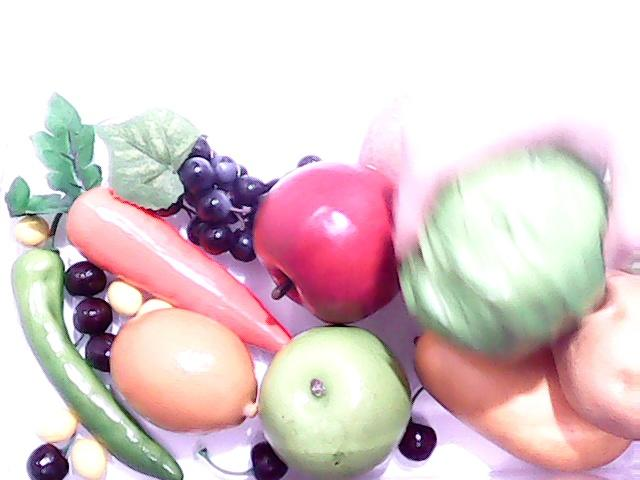apple: (253, 160, 412, 328), (255, 324, 412, 480)
cabbage: (392, 138, 616, 354)
carrot: (5, 90, 291, 354)
grape: (190, 147, 286, 261)
lemon: (82, 299, 274, 439)
mango: (415, 315, 633, 473)
peach: (357, 90, 408, 194)
pepper: (10, 197, 182, 480)
potato: (551, 263, 640, 440)
